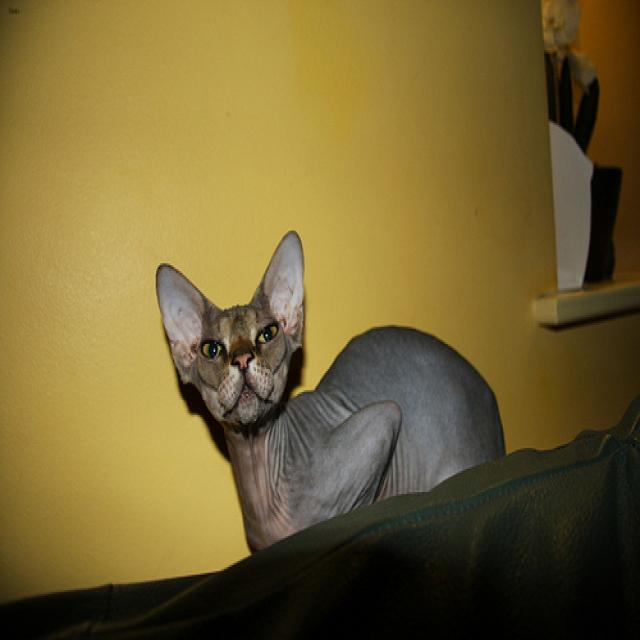cat: (154, 229, 302, 421)
